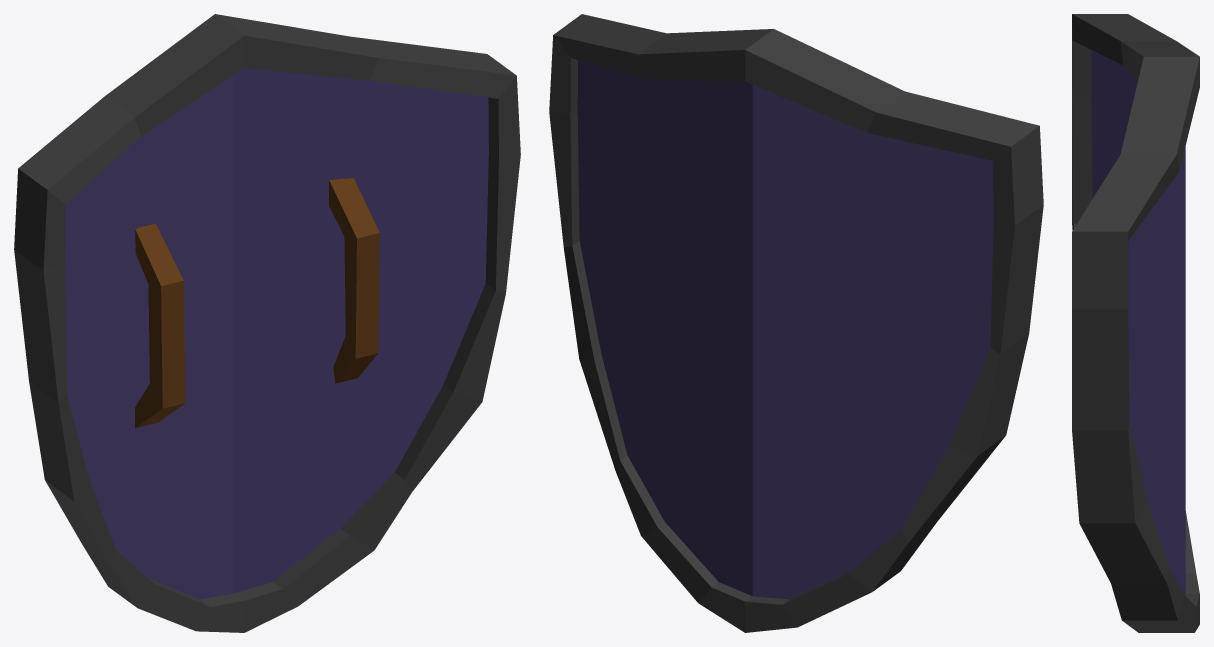
File: ShieldPurple.fbx
3 views of the same model, side by side, from view 1: azimuth 30°, elevation 25°; view 2: azimuth 150°, elevation 25°; view 3: azimuth 270°, elevation 25° (orthographic). The views are drawn at different scales.
Parts seen in each view (by area): view 1: Plane, Plane.001; view 2: Plane; view 3: Plane.
Part boxes in pixels (x1,y1,x2,y2): Plane: [14, 14, 520, 632]; Plane.001: [135, 178, 379, 428]; Plane: [549, 14, 1043, 632]; Plane: [1072, 14, 1199, 632].
Size of the model in its own units: 217 by 260 by 53.02.
Materials: 1 (1 with a texture image).
